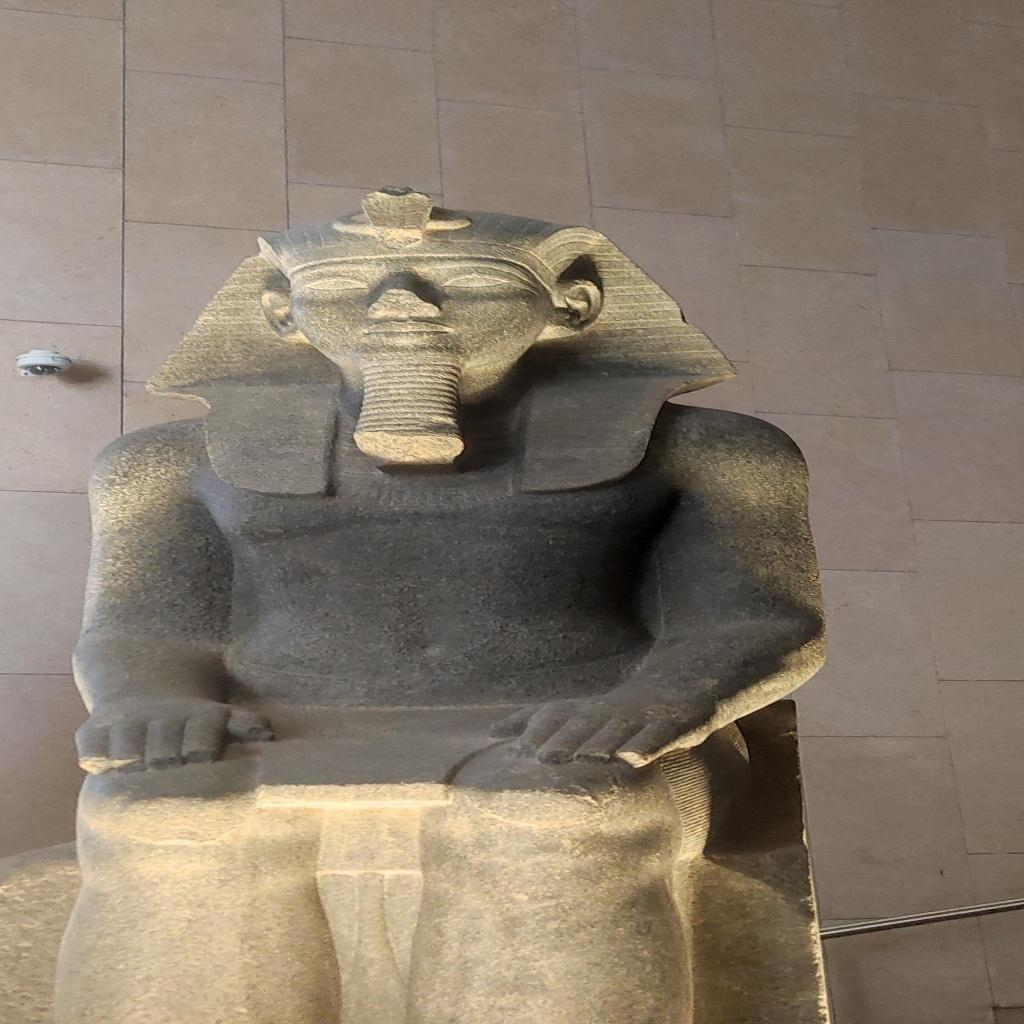Seated Statue of Amenhotep III: (52, 183, 836, 1020)
